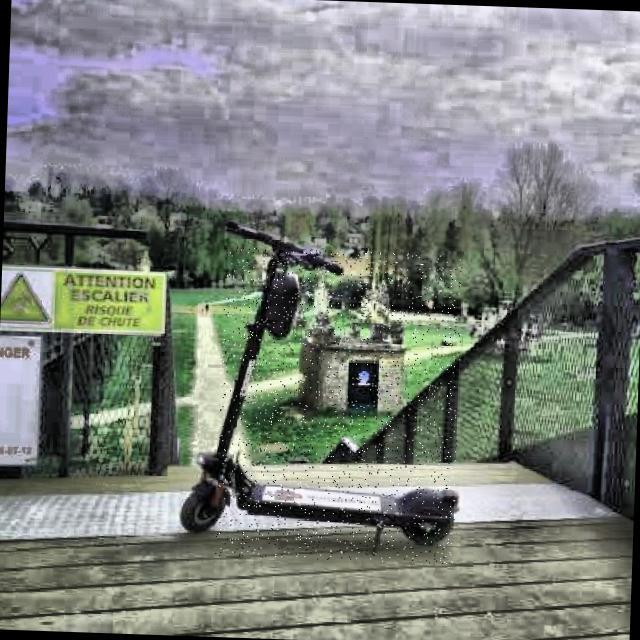bike: (179, 220, 458, 545)
